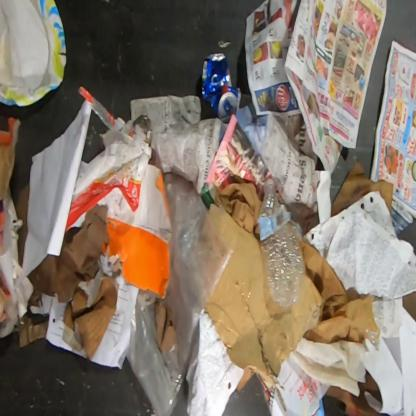cardboard: (204, 181, 382, 392), (66, 116, 152, 231), (0, 0, 66, 107), (102, 217, 169, 298), (310, 369, 392, 415), (331, 158, 394, 217), (79, 86, 130, 139), (18, 316, 49, 348), (0, 267, 12, 325), (403, 291, 415, 323)
metal: (202, 52, 242, 122)
rigid_plastic: (258, 177, 307, 309)
soft_plastic: (127, 170, 236, 415)
